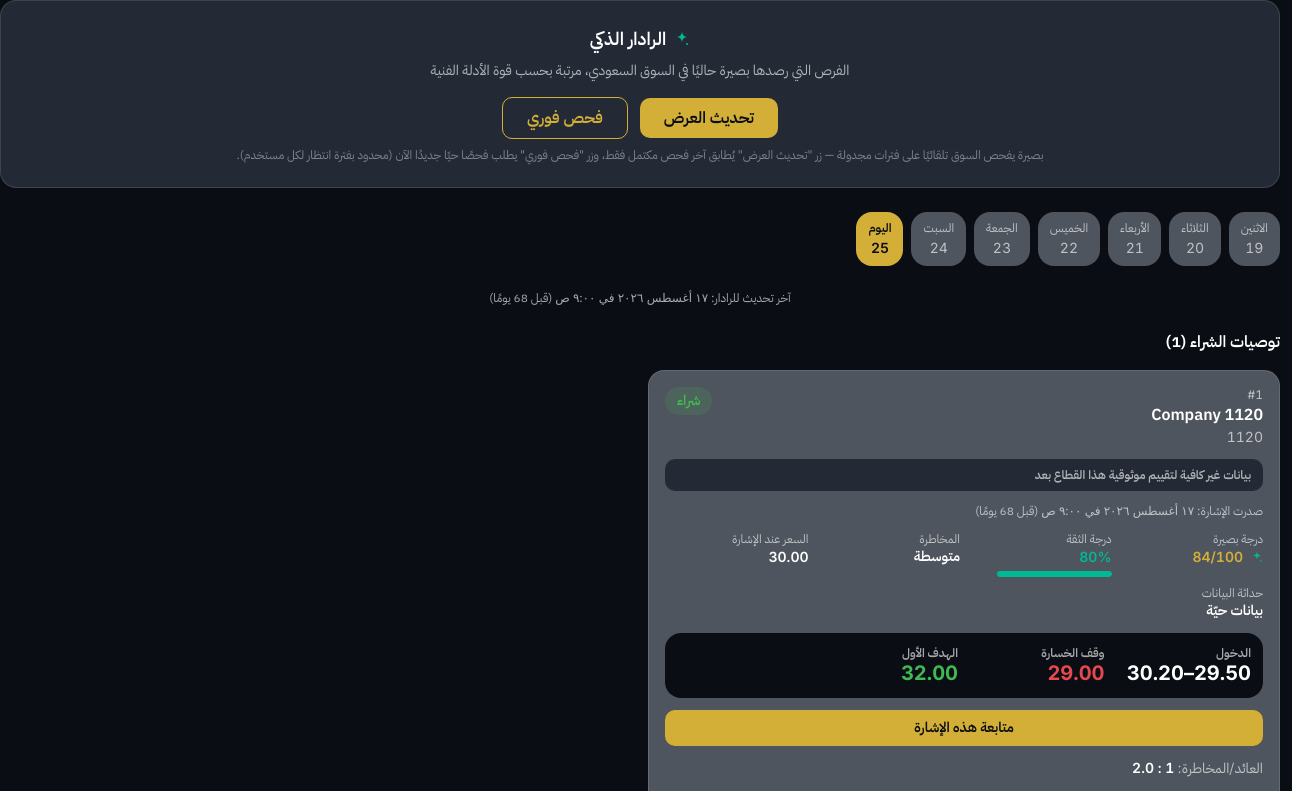
Scenario: RadarPage › day browsing › returns to the live today view when اليوم is selected again
Expected: the text "1120" is shown, [1227,428,1263,445]
Click the tab "السبت 24" at coordinates (939, 239), box [912,212,966,266]
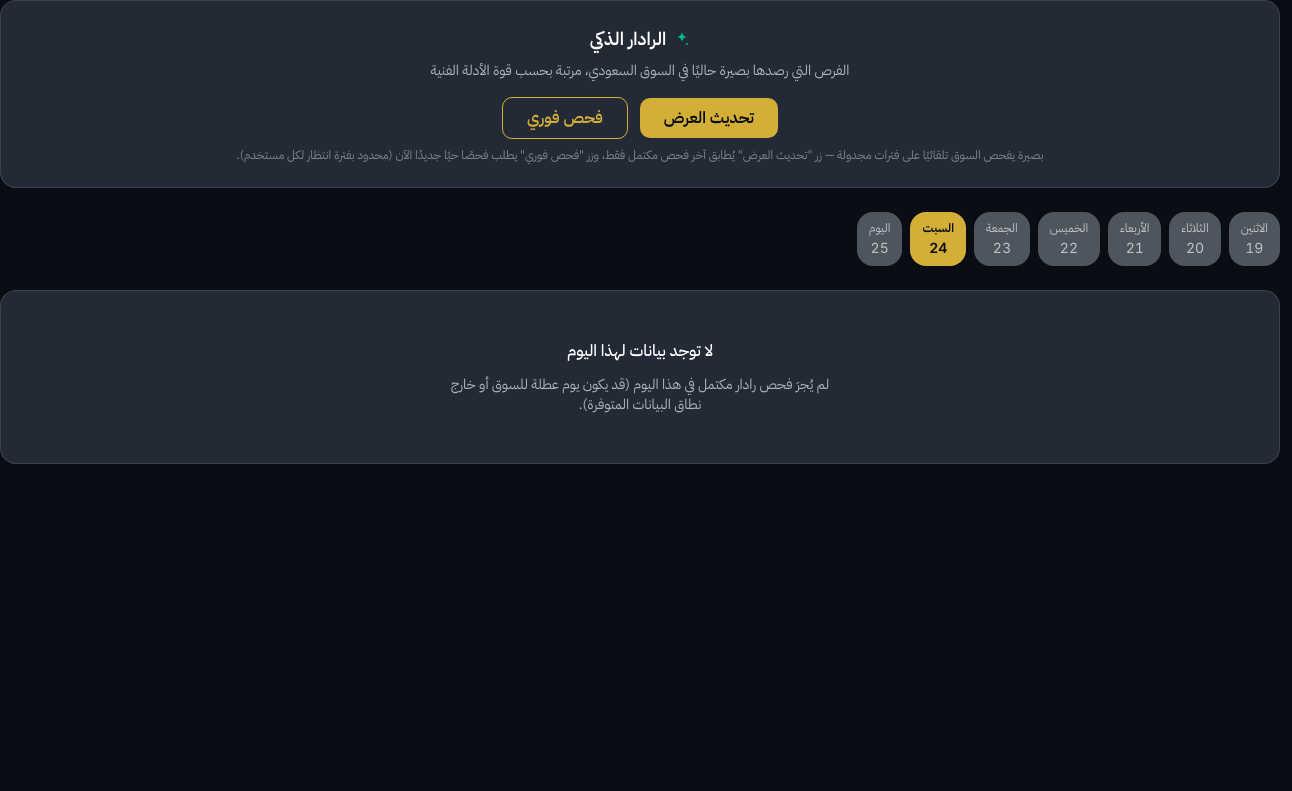
Expected: the text "لا توجد بيانات لهذا اليوم" is shown, [567,339,713,363]
Click the tab "اليوم 25" at coordinates (880, 239), box [857,212,902,266]
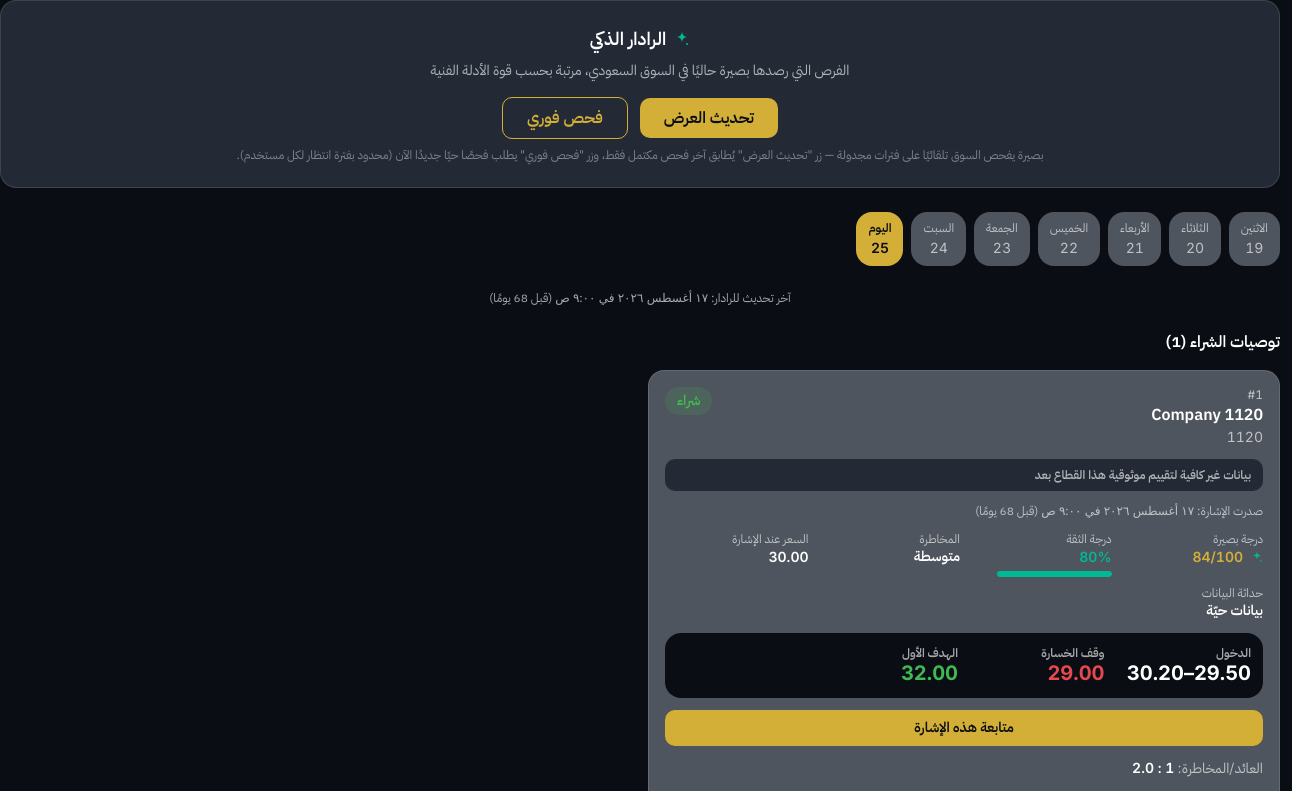
Expected: the text "1120" is shown, [1227,428,1263,445]
